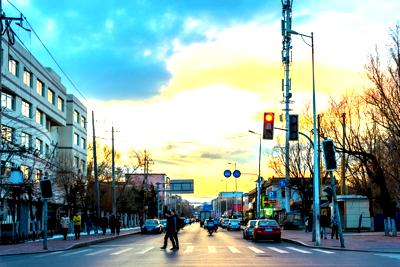International Road Signal Light: (263, 111, 275, 139), (289, 114, 298, 140)
